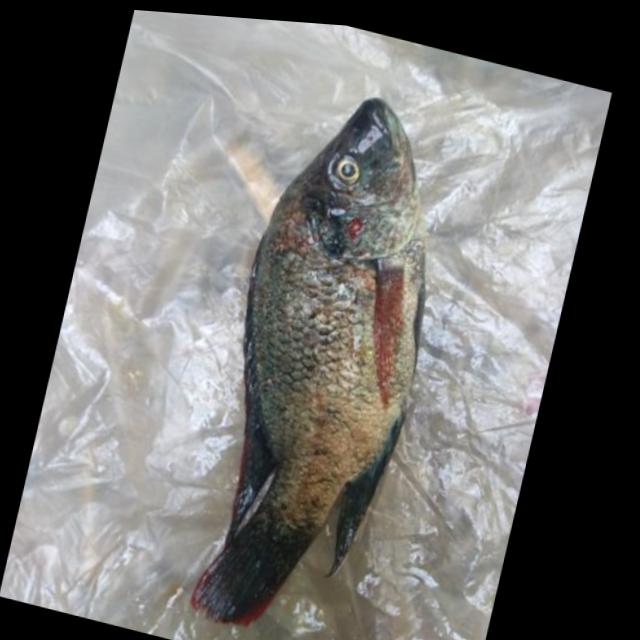Tilapia: (168, 69, 471, 640)
